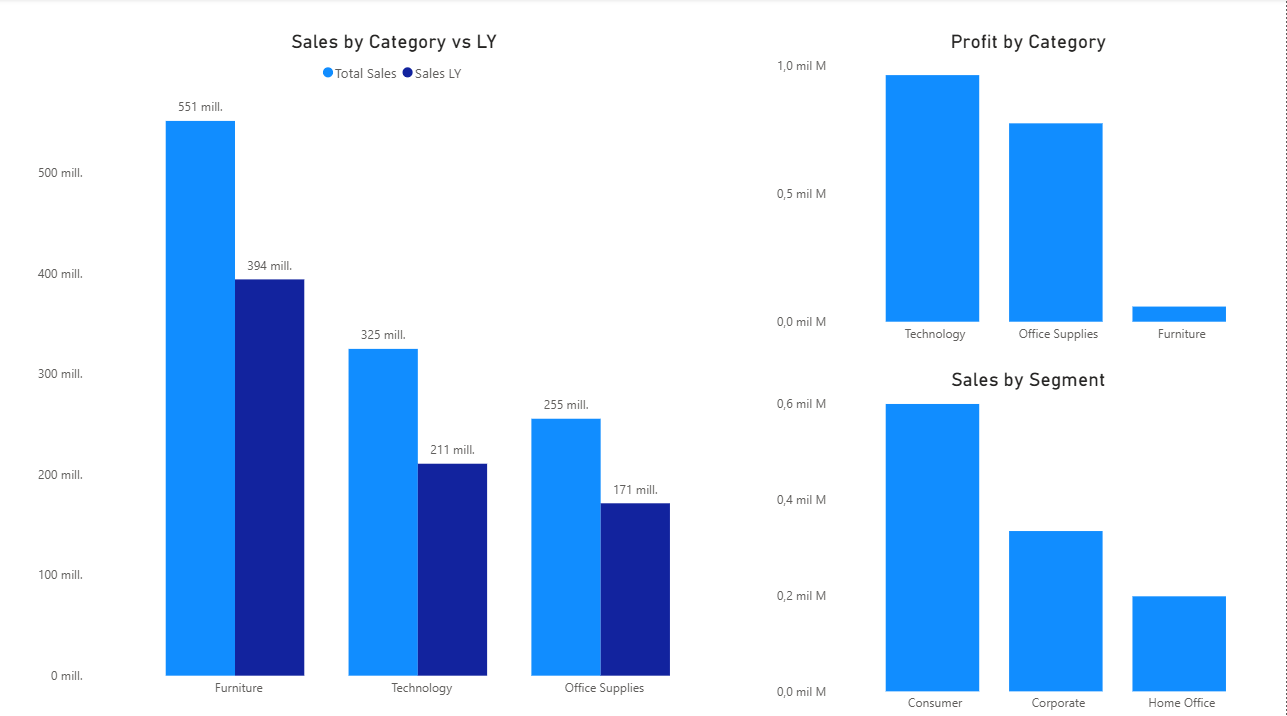

The page's visual inventory and layout, read from the dashboard file:
{"tool":"powerbi","page":{"name":"Category & Segment Performance","canvas":[1280,720],"ordinal":1},"visuals":[{"type":"clusteredColumnChart","title":"Sales by Category vs LY","fields":{"Category":["Superstore.Category"],"Y":["Superstore.Total Sales","Superstore.Sales LY"]},"box":[32,32,720,672],"z":0},{"type":"clusteredColumnChart","title":"Profit by Category","fields":{"Category":["Superstore.Category"],"Y":["Sum(Superstore.Profit)"]},"box":[768,32,512,320],"z":1},{"type":"clusteredColumnChart","title":"Sales by Segment","fields":{"Category":["Superstore.Segment"],"Y":["Superstore.Total Sales"]},"box":[768,368,512,352],"z":2}]}

Visuals, with their boxes in screenshot pixels (x1, y1, x2, y2), scaled from the page's 1280x720 canvas onto the 1287x716 screenshot:
"Sales by Category vs LY" clusteredColumnChart: bbox(32, 32, 756, 700)
"Profit by Category" clusteredColumnChart: bbox(772, 32, 1286, 350)
"Sales by Segment" clusteredColumnChart: bbox(772, 366, 1286, 715)
